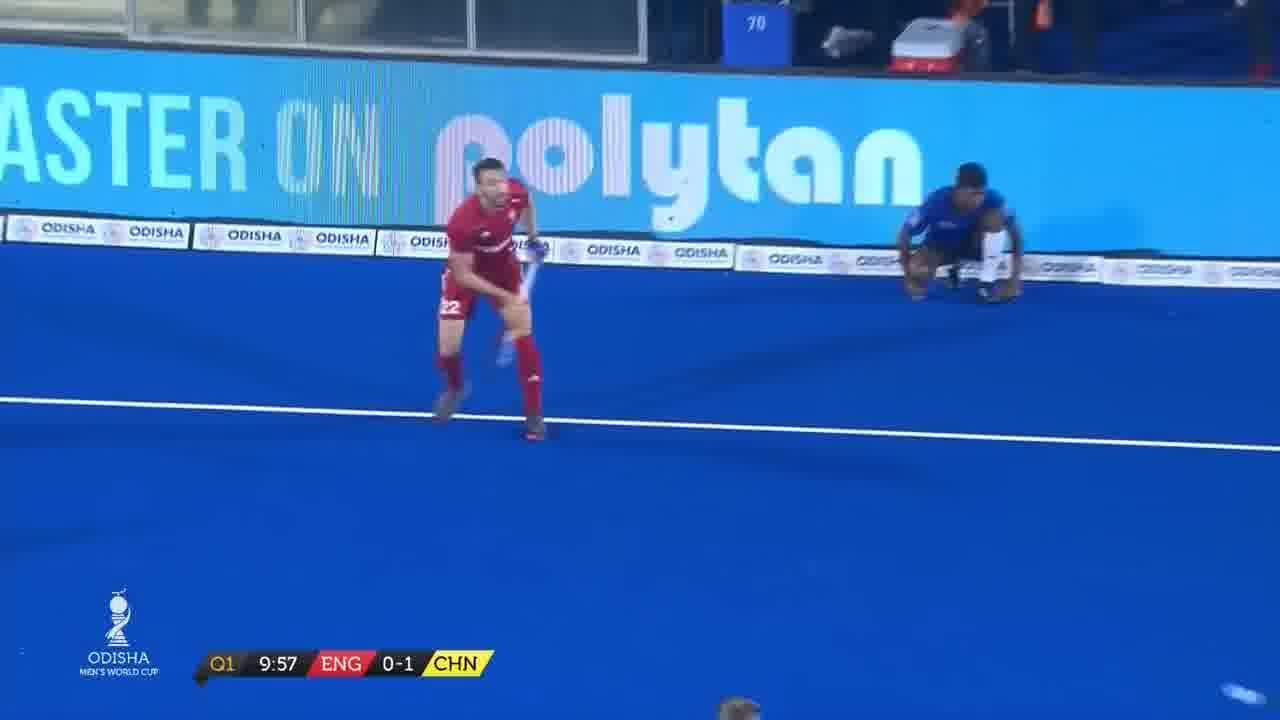ball: (1220, 668, 1274, 712)
